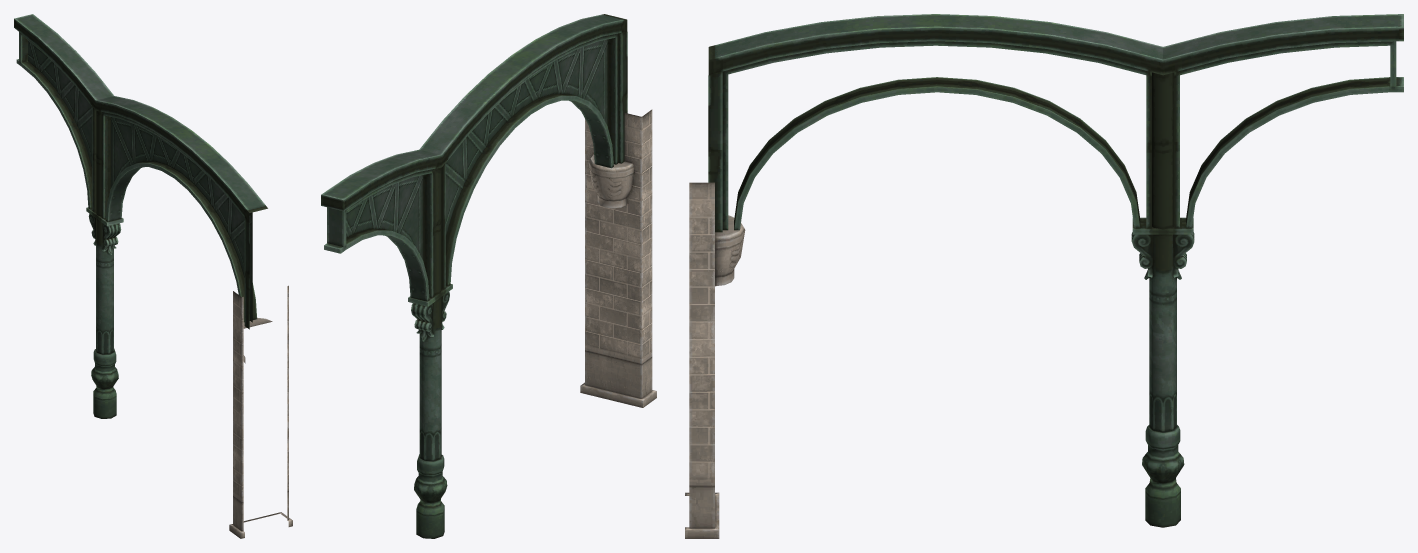
File: t1_b_south_station_pillar.glb
3 renders of one model, left to right at view 1: azimuth 30°, elevation 25°; view 2: azimuth 150°, elevation 25°; view 3: azimuth 270°, elevation 25°, orthographic. The views are drawn at different scales.
Visible parts, largest first — view 1: south_station_pillar; view 2: south_station_pillar; view 3: south_station_pillar.
Boxes of the visible parts, x1,y1,x2,y2 form: south_station_pillar: (14,14,292,538); south_station_pillar: (321,14,656,538); south_station_pillar: (685,14,1403,538).
Size of the model in its own units: 1.41 by 8.73 by 11.39.
Materials: 3 (3 with a texture image).
